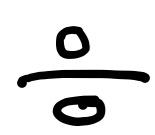div: (17, 26, 150, 127)
